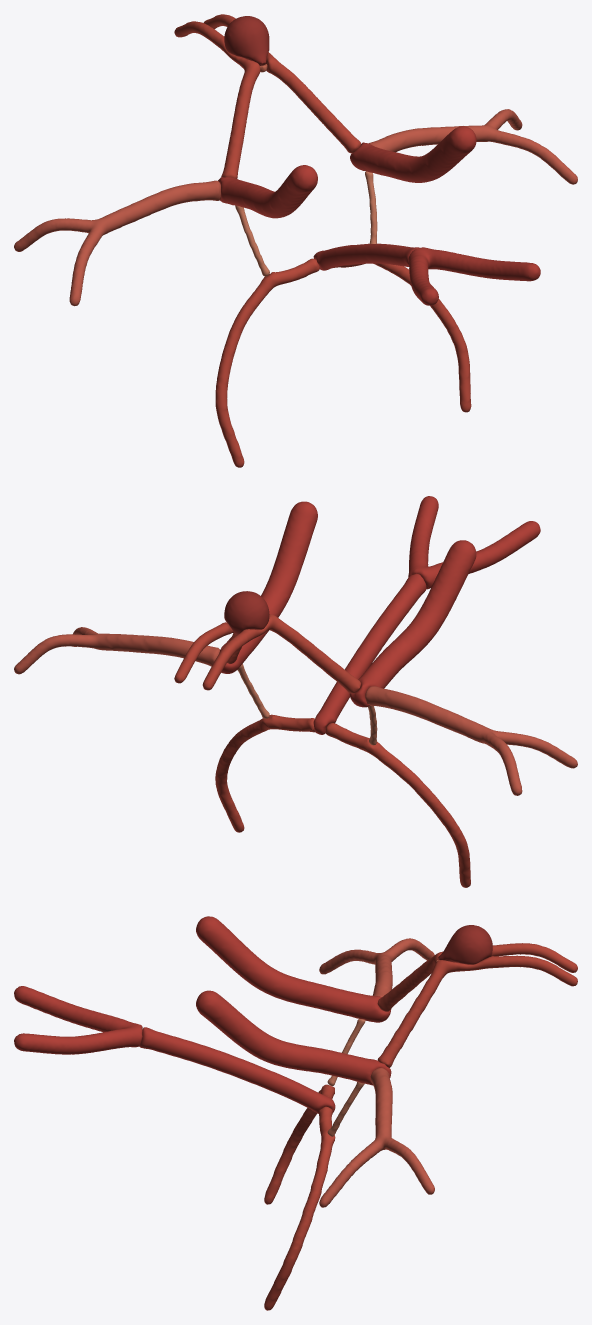
Rendered from willis_acom_coiled.glb.
The picture shows the model from 3 angles, top to bottom: view 1: azimuth 30°, elevation 25°; view 2: azimuth 150°, elevation 25°; view 3: azimuth 270°, elevation 25°; orthographic projection. The views are drawn at different scales.
Visible parts, largest first — view 1: middle_cerebrals, internal_carotids, posterior_cerebrals, anterior_cerebrals, vertebral_arteries, basilar_artery, aneurysm, posterior_communicatings; view 2: internal_carotids, middle_cerebrals, posterior_cerebrals, anterior_cerebrals, basilar_artery, vertebral_arteries, aneurysm, posterior_communicatings; view 3: internal_carotids, middle_cerebrals, anterior_cerebrals, vertebral_arteries, basilar_artery, posterior_cerebrals, aneurysm, posterior_communicatings.
Boxes of the visible parts, box(x1,y1,x2,y2) form: middle_cerebrals: box(14, 109, 577, 306); internal_carotids: box(218, 126, 476, 218); posterior_cerebrals: box(215, 258, 471, 467); anterior_cerebrals: box(174, 14, 360, 178); vertebral_arteries: box(408, 247, 540, 305); basilar_artery: box(313, 243, 419, 270); aneurysm: box(224, 16, 269, 65); posterior_communicatings: box(235, 171, 377, 276); internal_carotids: box(219, 501, 476, 707); middle_cerebrals: box(14, 627, 577, 795); posterior_cerebrals: box(215, 714, 470, 887); anterior_cerebrals: box(174, 614, 360, 693); basilar_artery: box(313, 573, 426, 734); vertebral_arteries: box(408, 496, 540, 589); aneurysm: box(224, 591, 269, 634); posterior_communicatings: box(237, 664, 377, 745); internal_carotids: box(196, 916, 391, 1085); middle_cerebrals: box(319, 938, 434, 1207); anterior_cerebrals: box(377, 943, 577, 1067); vertebral_arteries: box(14, 986, 142, 1054); basilar_artery: box(139, 1027, 335, 1113); posterior_cerebrals: box(264, 1084, 335, 1310); aneurysm: box(438, 925, 492, 964); posterior_communicatings: box(327, 1018, 365, 1136).
Size of the model in its own units: 17.9 by 11.61 by 17.99.
